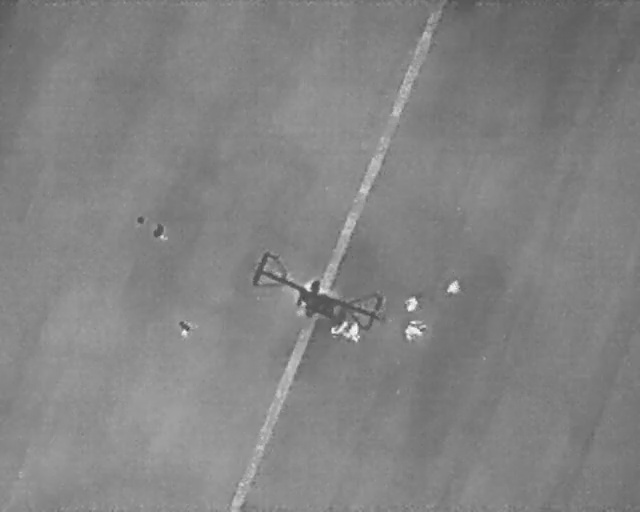Person: (328, 315, 351, 337), (404, 321, 426, 341), (176, 319, 192, 339), (345, 322, 360, 342), (446, 279, 462, 297), (404, 294, 419, 313), (151, 223, 166, 241)
